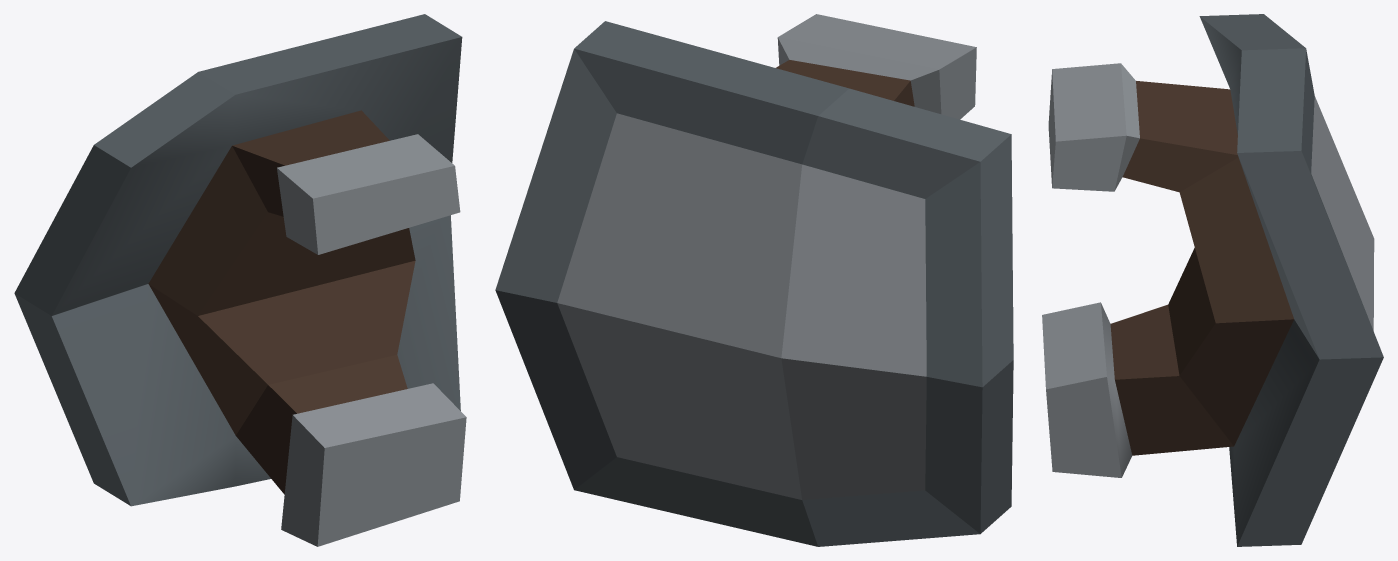
The model's file is Chr_ElbowAttachRight_06_Static.fbx.
3 views of the same model, side by side, from view 1: azimuth 30°, elevation 25°; view 2: azimuth 150°, elevation 25°; view 3: azimuth 270°, elevation 25° (orthographic). The views are drawn at different scales.
Visible parts, largest first — view 1: Chr_ElbowAttachRight_06_Static; view 2: Chr_ElbowAttachRight_06_Static; view 3: Chr_ElbowAttachRight_06_Static.
Boxes of the visible parts, x1,y1,x2,y2 form: Chr_ElbowAttachRight_06_Static: [14, 14, 466, 546]; Chr_ElbowAttachRight_06_Static: [495, 14, 1013, 546]; Chr_ElbowAttachRight_06_Static: [1042, 14, 1383, 546].
Bounding box in the file's own units: 0.153 × 0.1381 × 0.1086.
